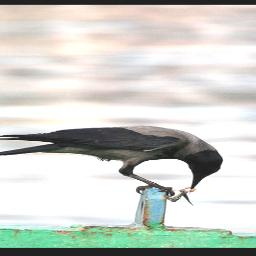Crow: (0, 124, 224, 196)
